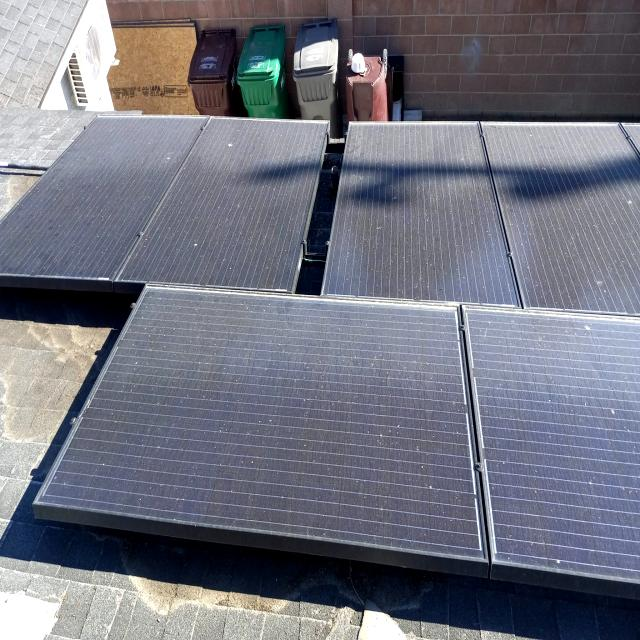dust: (152, 295, 442, 529), (482, 321, 630, 561), (503, 134, 632, 296), (353, 128, 486, 282), (180, 144, 306, 258), (66, 146, 156, 264)
